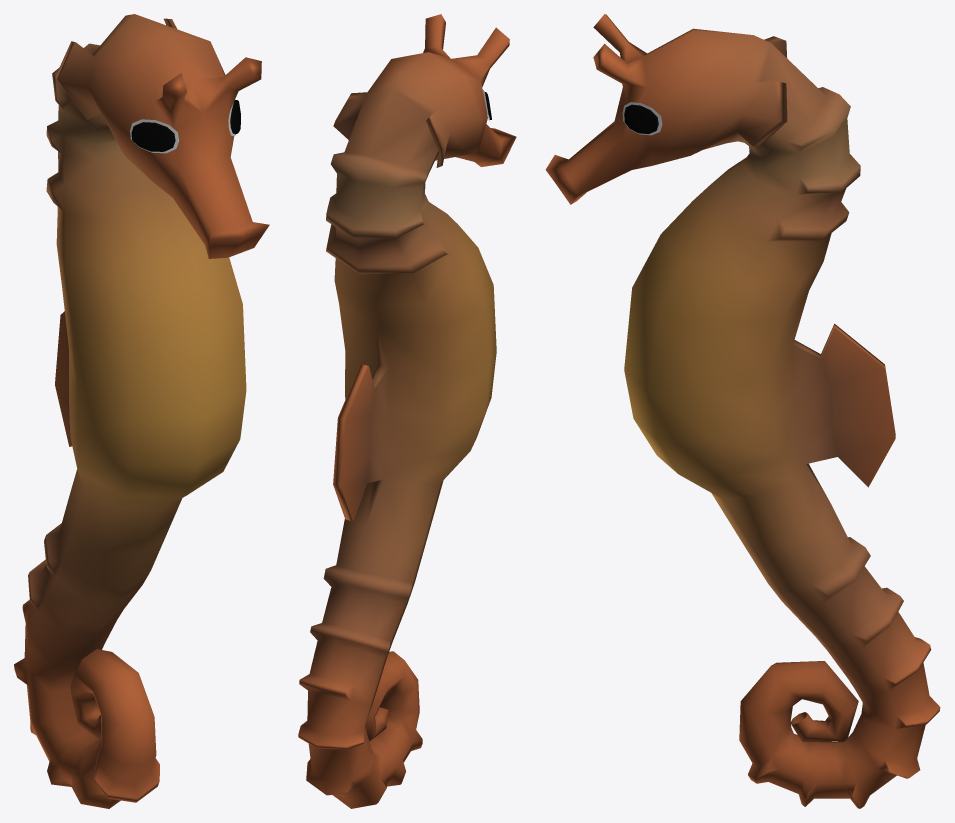
The model's file is underwater-fish-seahorse_v1.glb.
3 renders of one model, left to right at view 1: azimuth 30°, elevation 25°; view 2: azimuth 150°, elevation 25°; view 3: azimuth 270°, elevation 25°, orthographic. The views are drawn at different scales.
Visible parts, largest first — view 1: Seahorse; view 2: Seahorse; view 3: Seahorse.
Part boxes in pixels (bbox=[...]): Seahorse: bbox=[14, 14, 269, 808]; Seahorse: bbox=[298, 14, 516, 808]; Seahorse: bbox=[545, 14, 940, 808].
Size of the model in its own units: 0.031 by 0.15 by 0.0691.
